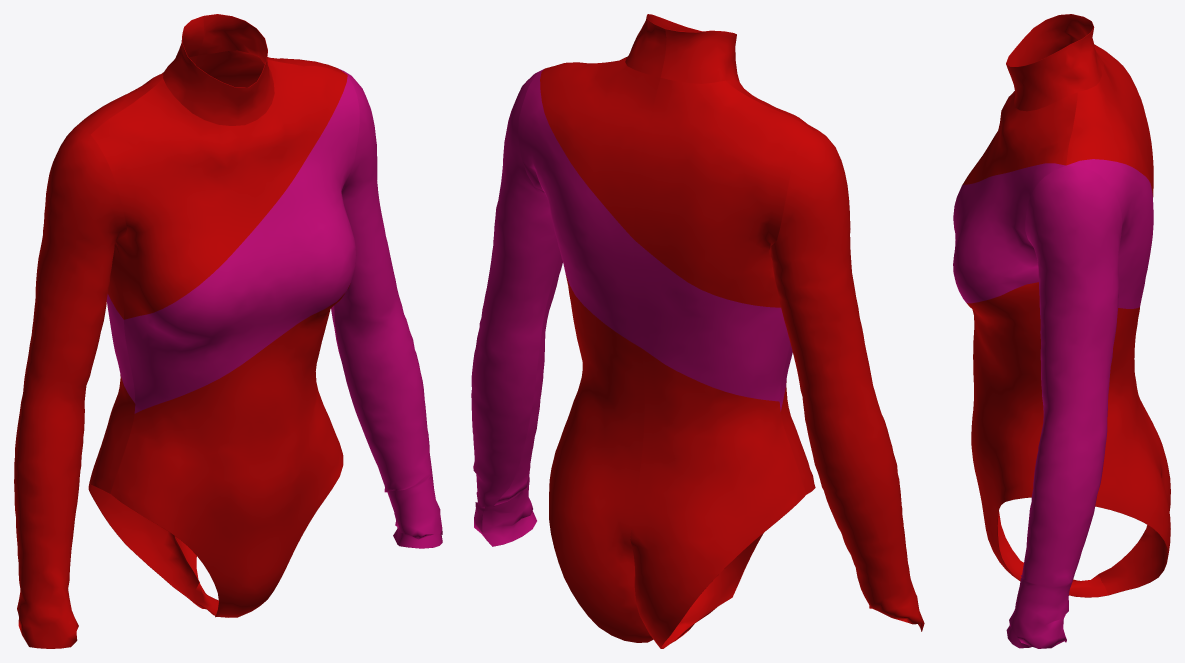
3 renders of one model, left to right at view 1: azimuth 30°, elevation 25°; view 2: azimuth 150°, elevation 25°; view 3: azimuth 270°, elevation 25°, orthographic. The views are drawn at different scales.
Visible parts, largest first — view 1: Pattern2D_713644, Pattern2D_530152, SLE, Pattern2D_713516, SLE_1, Pattern2D_408223, Pattern2D_569657, Pattern2D_550291, Pattern2D_563137, Pattern2D_569619; view 2: SLE, Pattern2D_569657, Pattern2D_563137, SLE_1, Pattern2D_556861, Pattern2D_569619, Pattern2D_556758, Pattern2D_550291, Pattern2D_408223, Pattern2D_713644; view 3: SLE_1, Pattern2D_713644, Pattern2D_556861, Pattern2D_713516, Pattern2D_408223, Pattern2D_530152, Pattern2D_550291, Pattern2D_556758, Pattern2D_563137, Pattern2D_569657.
Boxes of the visible parts, x1,y1,x2,y2 form: Pattern2D_713644: (110,283,350,617); Pattern2D_530152: (90,59,347,319); SLE: (14,128,126,648); Pattern2D_713516: (124,75,359,413); SLE_1: (331,71,442,548); Pattern2D_408223: (163,14,274,125); Pattern2D_569657: (88,374,199,596); Pattern2D_550291: (195,50,346,87); Pattern2D_563137: (72,55,197,319); Pattern2D_569619: (106,294,135,403); SLE: (770,130,924,631); Pattern2D_569657: (630,349,806,648); Pattern2D_563137: (634,78,812,307); SLE_1: (471,71,562,546); Pattern2D_556861: (549,274,652,642); Pattern2D_569619: (633,240,790,401); Pattern2D_556758: (518,69,641,348); Pattern2D_550291: (540,58,660,239); Pattern2D_408223: (625,14,739,83); Pattern2D_713644: (649,381,815,644); SLE_1: (1006,165,1121,648); Pattern2D_713644: (967,282,1107,597); Pattern2D_556861: (1095,307,1170,595); Pattern2D_713516: (953,163,1065,303); Pattern2D_408223: (1006,14,1103,111); Pattern2D_530152: (962,91,1077,185); Pattern2D_550291: (1066,68,1152,195); Pattern2D_556758: (1066,159,1153,308); Pattern2D_563137: (1094,44,1153,196); Pattern2D_569657: (1112,376,1170,566).
Size of the model in its own units: 55.26 by 73.23 by 25.54.
